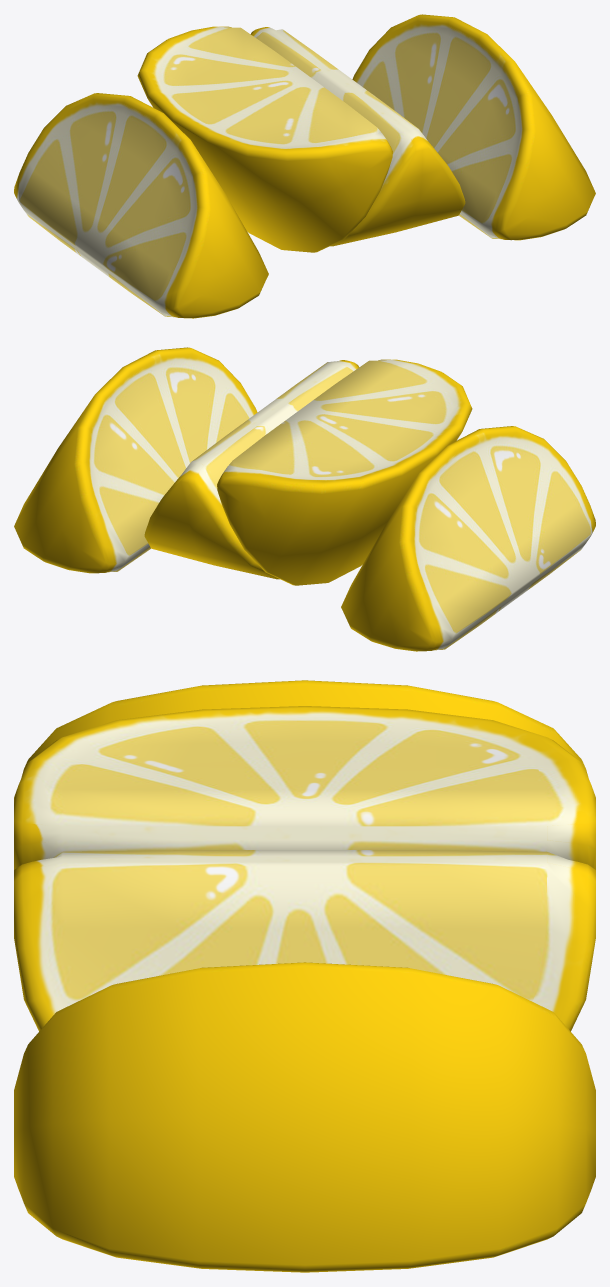
Rendered from DogranmisLimonlar.fbx.
3 views of the same model, one above another, from view 1: azimuth 30°, elevation 25°; view 2: azimuth 150°, elevation 25°; view 3: azimuth 270°, elevation 25° (orthographic). The views are drawn at different scales.
Visible parts, largest first — view 1: DogranmisLimon.002; view 2: DogranmisLimon.002; view 3: DogranmisLimon.002.
Boxes of the visible parts, x1,y1,x2,y2 form: DogranmisLimon.002: (14, 14, 595, 318); DogranmisLimon.002: (14, 347, 595, 651); DogranmisLimon.002: (14, 680, 595, 1272).
Size of the model in its own units: 89.5 by 25.66 by 53.46.
1 material, 1 textured.
